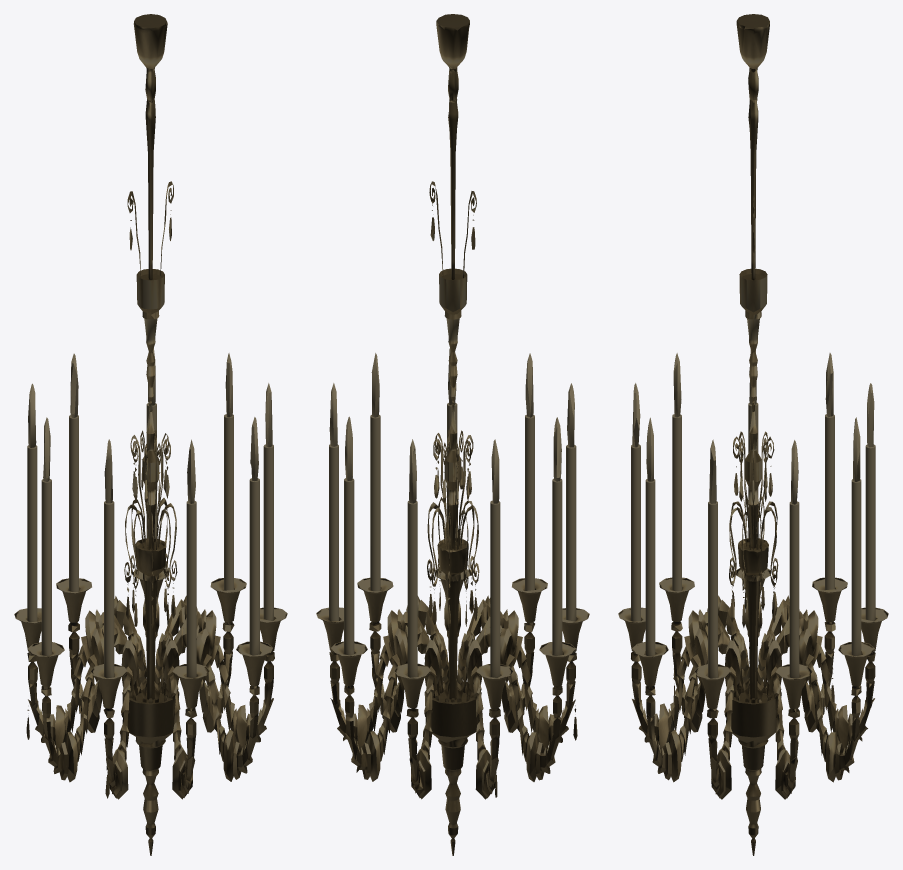
Rendered from Pendant_Lamp_ae038383-2e60-5ffe-9f78-6bf73318ca0d.glb.
3 renders of one model, left to right at view 1: azimuth 30°, elevation 25°; view 2: azimuth 150°, elevation 25°; view 3: azimuth 270°, elevation 25°, orthographic.
Parts seen in each view (by area): view 1: raw_model.obj; view 2: raw_model.obj; view 3: raw_model.obj.
Part boxes in pixels (x1,y1,x2,y2): raw_model.obj: [14, 14, 287, 855]; raw_model.obj: [316, 14, 589, 855]; raw_model.obj: [618, 14, 888, 855].
Bounding box in the file's own units: 0.3293 × 1.12 × 0.3293.
Materials: 1 (1 with a texture image).
